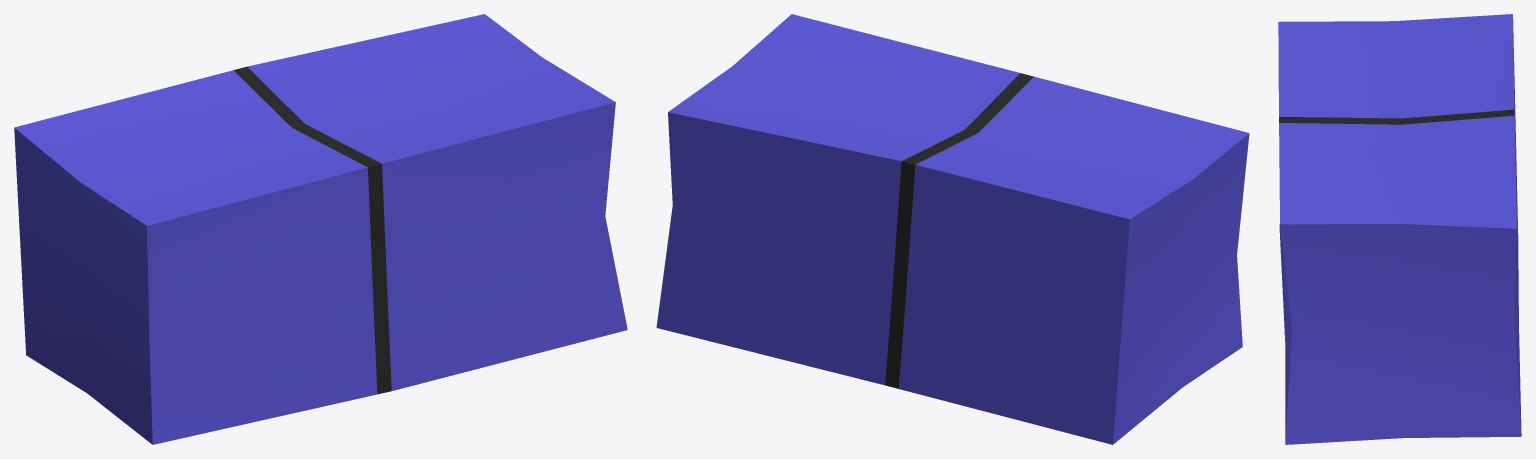
3 renders of one model, left to right at view 1: azimuth 30°, elevation 25°; view 2: azimuth 150°, elevation 25°; view 3: azimuth 270°, elevation 25°, orthographic. The views are drawn at different scales.
Visible parts, largest first — view 1: box.001; view 2: box.001; view 3: box.001.
Boxes of the visible parts, box(x1,y1,x2,y2) form: box.001: box(14, 14, 627, 444); box.001: box(656, 14, 1249, 444); box.001: box(1278, 14, 1521, 444).
Size of the model in its own units: 0.485 by 0.2253 by 0.2276.
